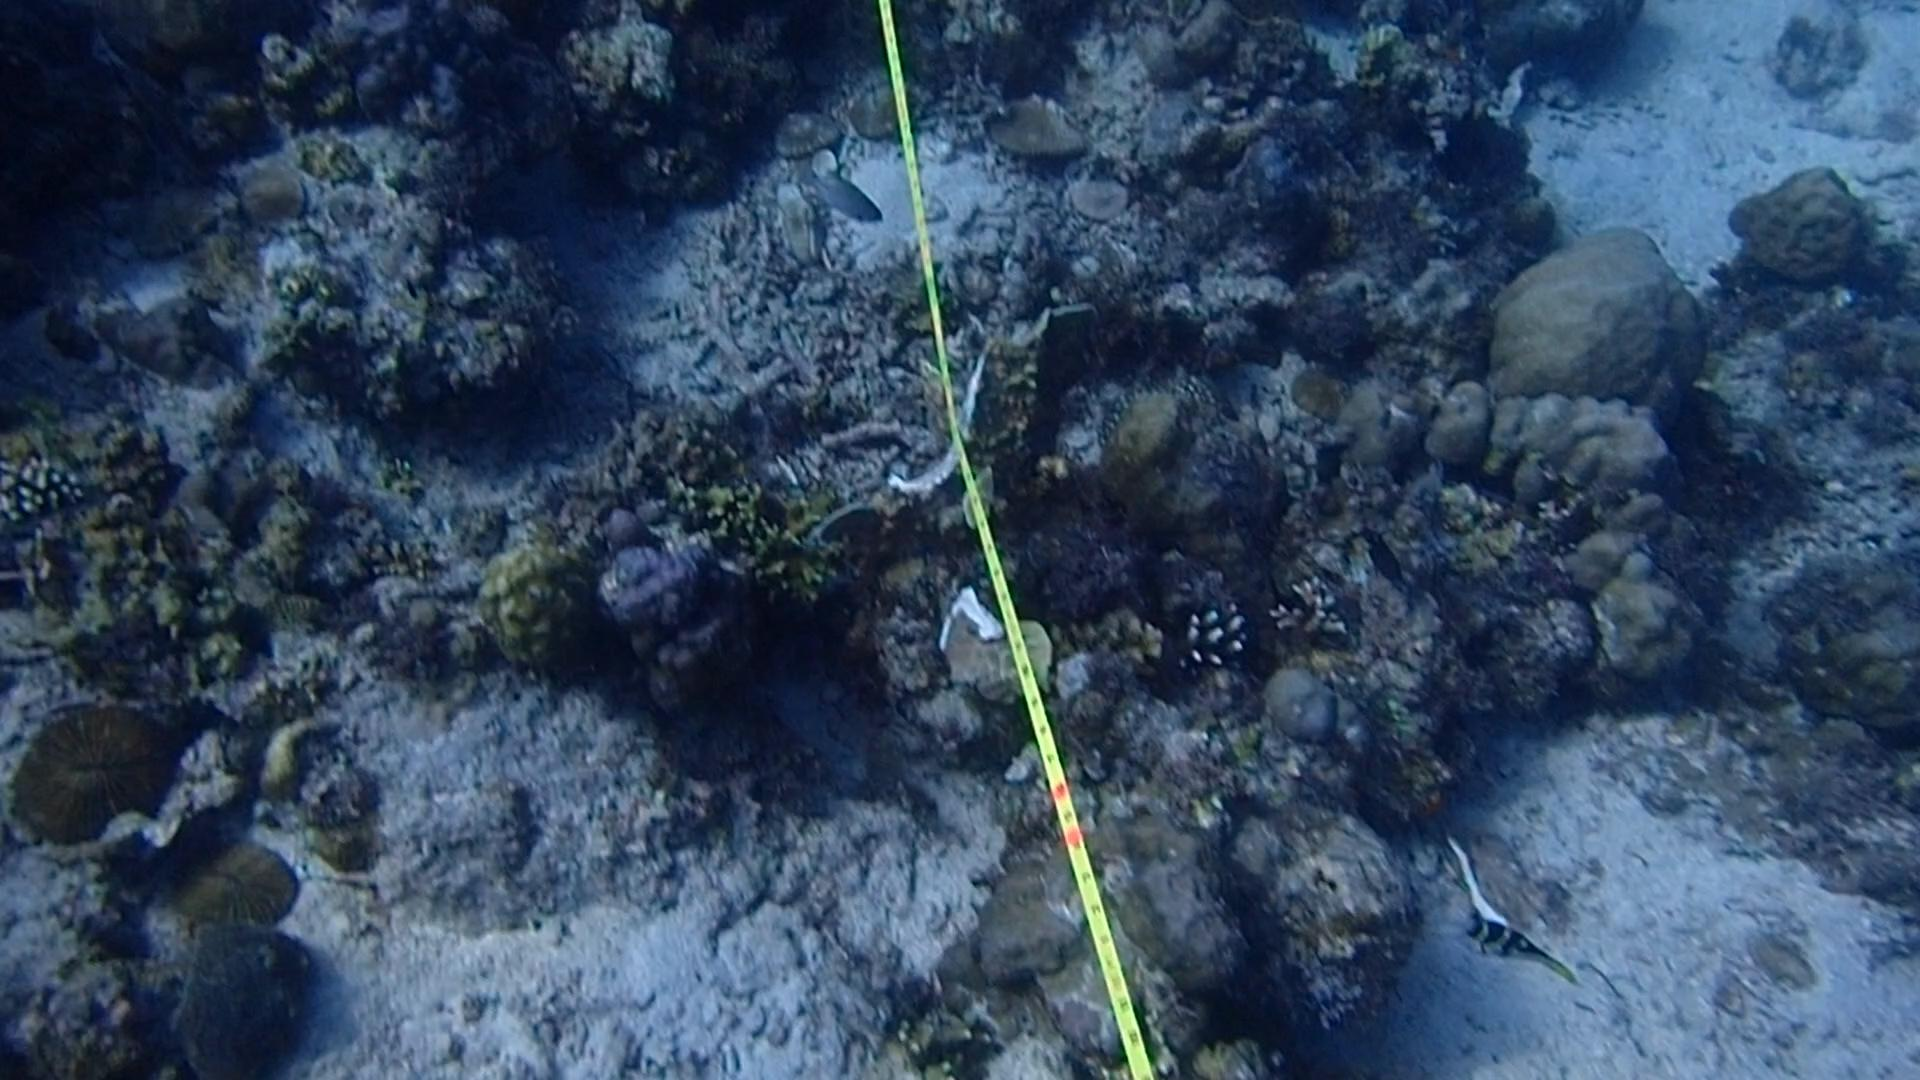Striped Fish: (1451, 895, 1572, 994)
